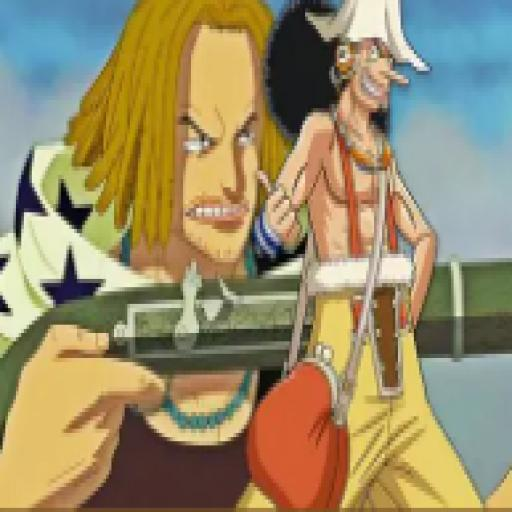Usopp: (224, 0, 496, 512)
